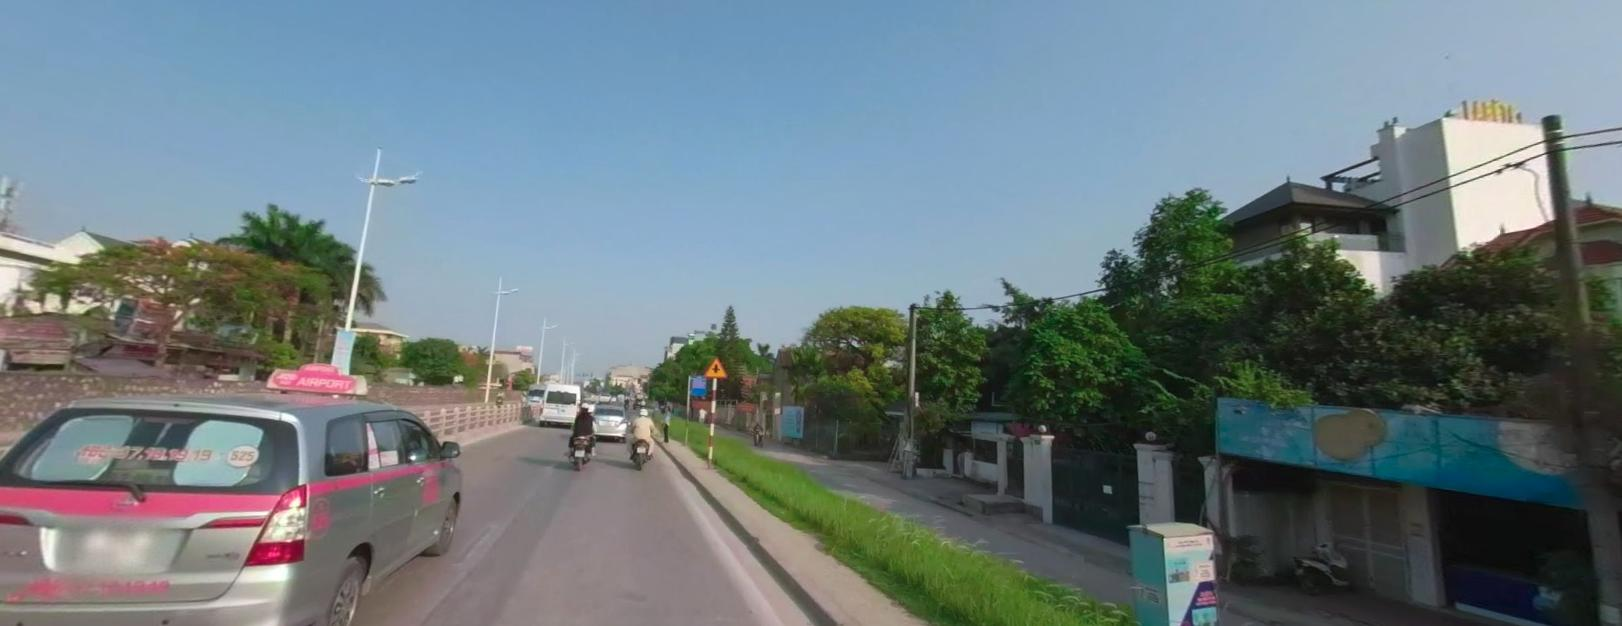Nguy hiem: (702, 354, 727, 377)
